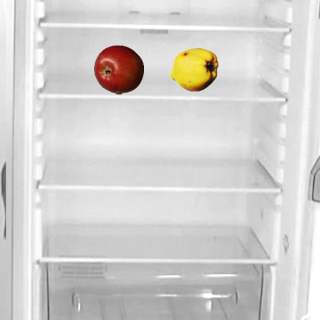Apple Braeburn: (93, 44, 143, 94)
Quince: (168, 44, 218, 94)
